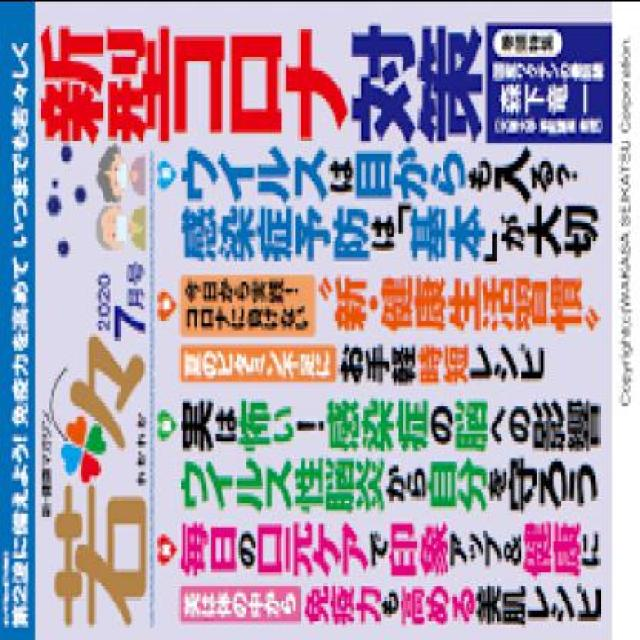PAPER: (0, 3, 614, 639)
